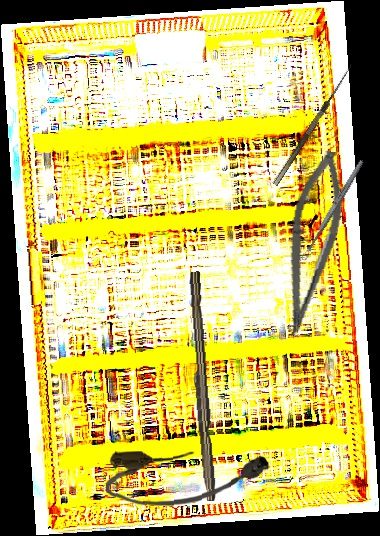Cannula: (105, 446, 270, 509)
Hook Surgical: (266, 59, 355, 187)
Micro Scissor: (276, 147, 351, 340)
Scalpel Handle: (182, 271, 220, 502)
Surgical Spoon: (299, 158, 366, 262)
